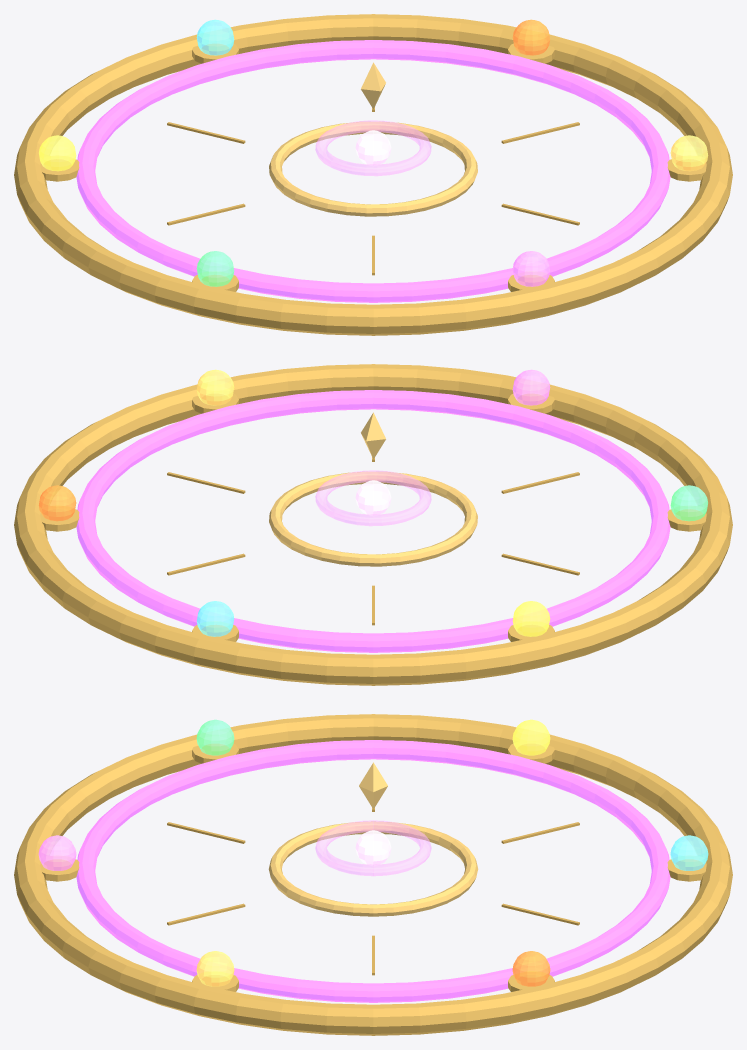
The model's file is casting-disc-v3.glb.
3 renders of one model, top to bottom at view 1: azimuth 30°, elevation 25°; view 2: azimuth 150°, elevation 25°; view 3: azimuth 270°, elevation 25°, orthographic.
Visible parts, largest first — view 1: rim_outer_gold, rim_inner_purple, hub_gold, preview_glass_ring, slot_nature, slot_arcane, slot_earth, slot_fire, slot_frost, slot_bolt, preview_spark, bezel_bolt (+5 smaller); view 2: rim_outer_gold, rim_inner_purple, hub_gold, preview_glass_ring, slot_bolt, slot_arcane, slot_earth, slot_fire, slot_frost, slot_nature, preview_spark, bezel_nature (+5 smaller); view 3: rim_outer_gold, rim_inner_purple, hub_gold, preview_glass_ring, slot_bolt, slot_nature, slot_earth, slot_fire, slot_arcane, slot_frost, preview_spark, bezel_arcane (+5 smaller).
Boxes of the visible parts, left/top/right/bottom form: rim_outer_gold: left=14, top=14, right=732, bottom=335; rim_inner_purple: left=76, top=40, right=670, bottom=302; hub_gold: left=269, top=121, right=477, bottom=216; preview_glass_ring: left=315, top=120, right=431, bottom=176; slot_nature: left=196, top=251, right=234, bottom=286; slot_arcane: left=512, top=251, right=550, bottom=286; slot_earth: left=670, top=135, right=708, bottom=171; slot_fire: left=512, top=19, right=550, bottom=55; slot_frost: left=196, top=19, right=234, bottom=55; slot_bolt: left=39, top=135, right=76, bottom=171; preview_spark: left=355, top=130, right=391, bottom=165; bezel_bolt: left=40, top=159, right=79, bottom=181; rim_outer_gold: left=14, top=364, right=732, bottom=685; rim_inner_purple: left=76, top=390, right=670, bottom=652; hub_gold: left=269, top=471, right=477, bottom=566; preview_glass_ring: left=315, top=470, right=431, bottom=526; slot_bolt: left=512, top=601, right=550, bottom=636; slot_arcane: left=512, top=369, right=550, bottom=405; slot_earth: left=196, top=369, right=234, bottom=405; slot_fire: left=38, top=485, right=76, bottom=521; slot_frost: left=196, top=601, right=234, bottom=636; slot_nature: left=670, top=485, right=707, bottom=521; preview_spark: left=355, top=480, right=391, bottom=515; bezel_nature: left=667, top=509, right=706, bottom=531; rim_outer_gold: left=14, top=714, right=732, bottom=1035; rim_inner_purple: left=76, top=740, right=670, bottom=1002; hub_gold: left=268, top=821, right=478, bottom=916; preview_glass_ring: left=315, top=820, right=431, bottom=876; slot_bolt: left=512, top=719, right=550, bottom=755; slot_nature: left=196, top=719, right=234, bottom=755; slot_earth: left=196, top=951, right=234, bottom=986; slot_fire: left=512, top=951, right=550, bottom=986; slot_arcane: left=38, top=835, right=76, bottom=870; slot_frost: left=670, top=835, right=708, bottom=870; preview_spark: left=355, top=830, right=391, bottom=865; bezel_arcane: left=40, top=859, right=79, bottom=881.
Size of the model in its own units: 2.2 by 0.4257 by 2.2.
